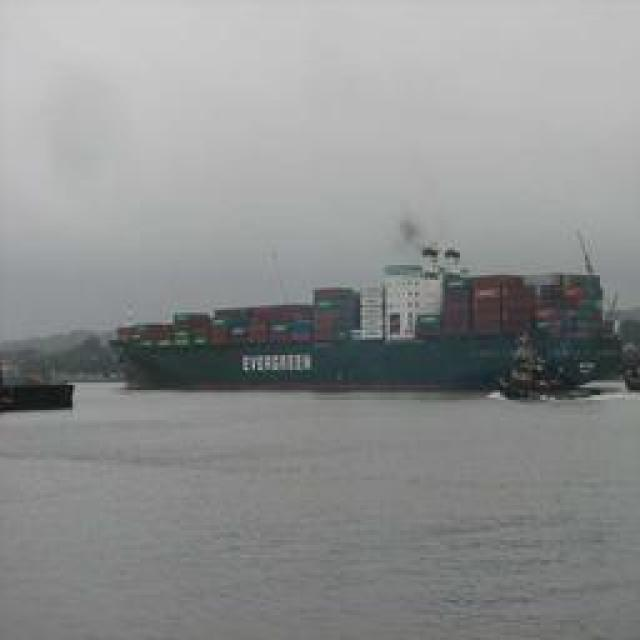CIV_Ship: (114, 272, 624, 390)
